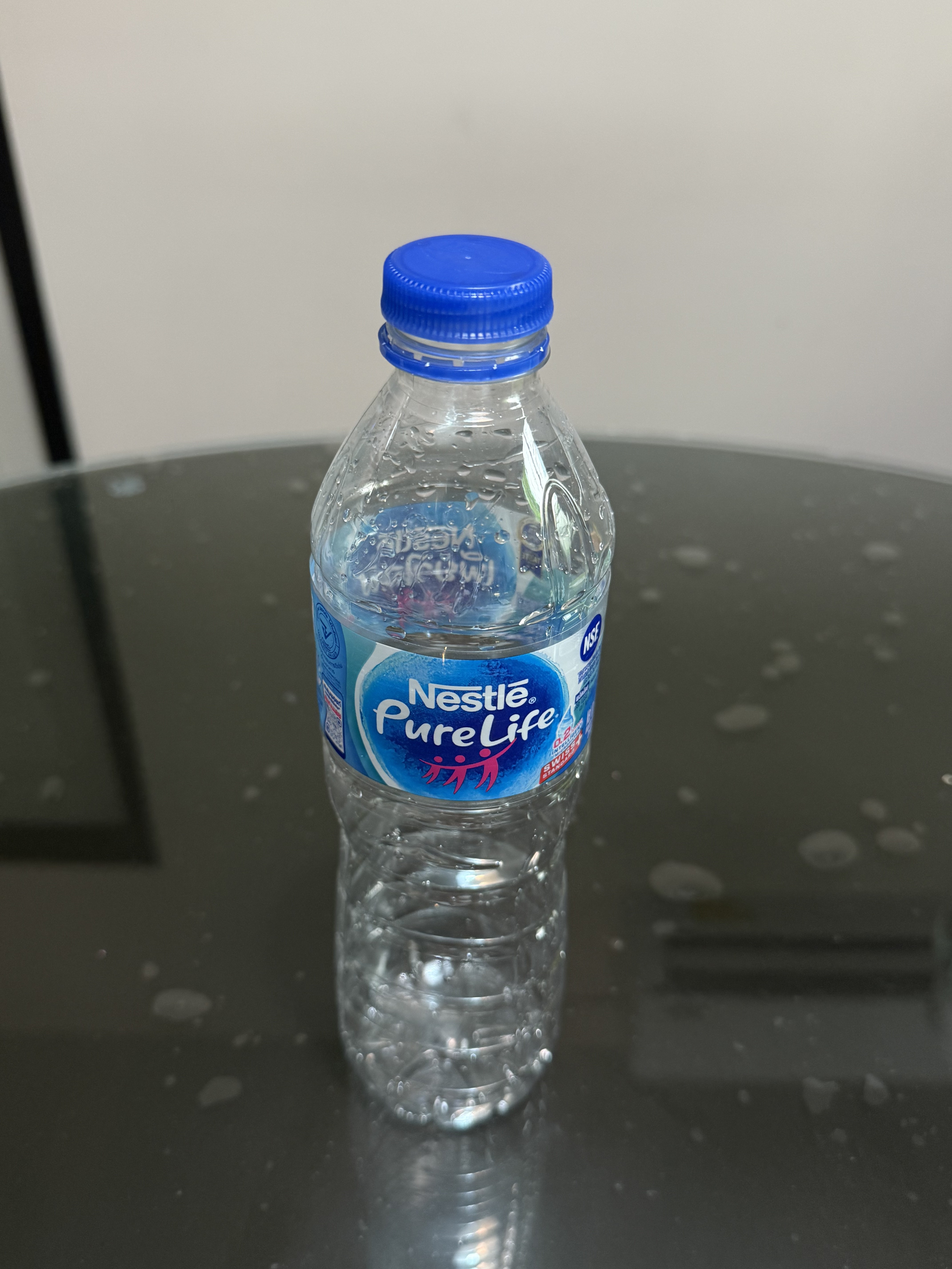half_cap: (373, 227, 558, 393)
